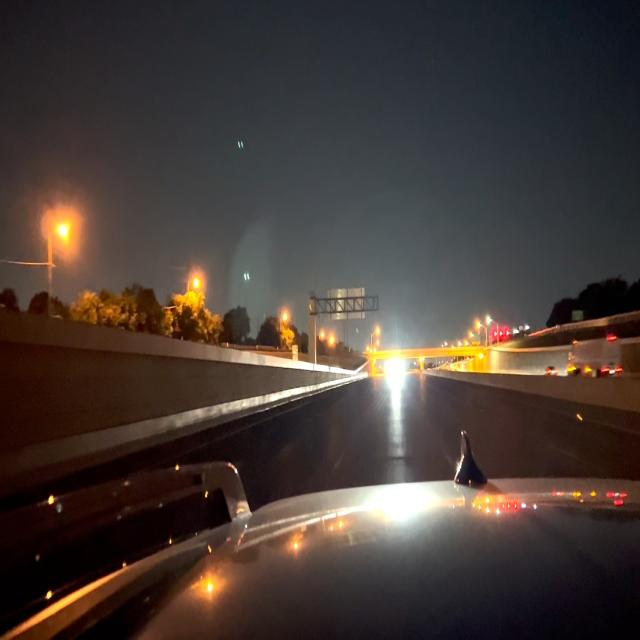back-of-sign: (327, 288, 365, 320)
